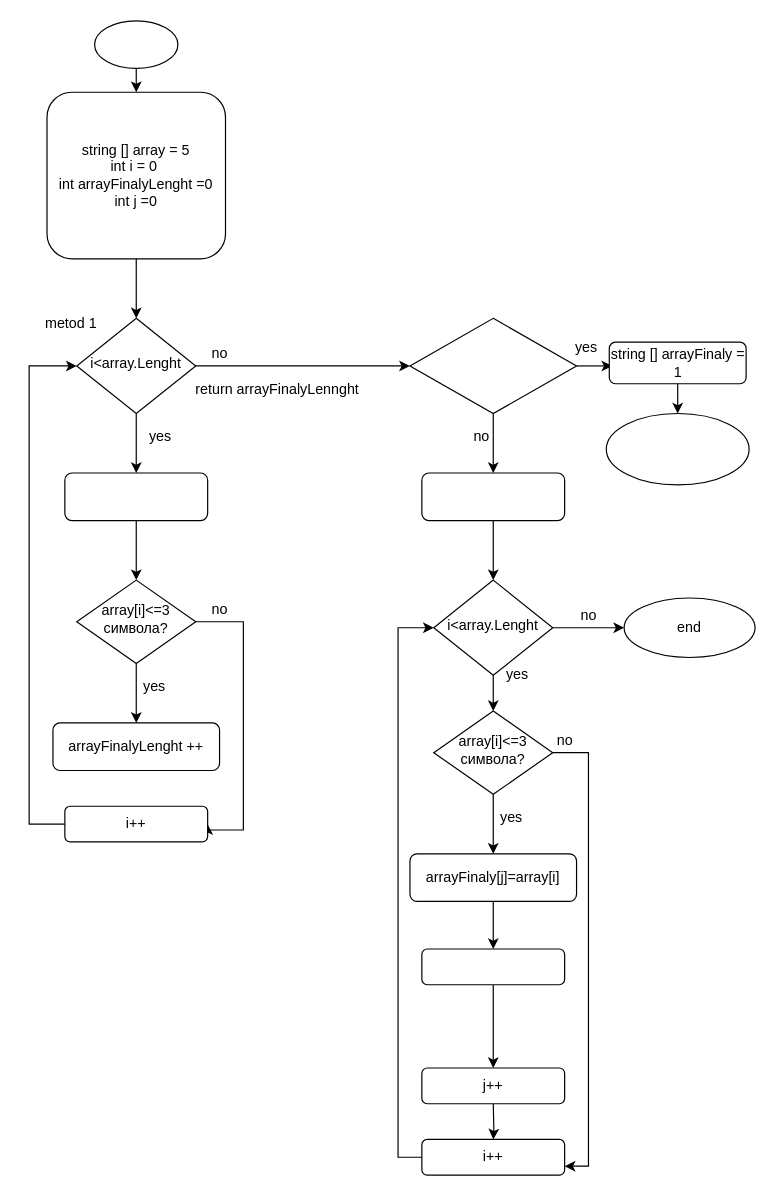
Some shapes in this 776 by 1197 pixel diagram are drawn without their labels. Here are the shapes that lost their labels. From the top down, the centre of each, then its label:
At [135,44]: "Start".
At [493,365]: "arrayFinalyLenght = 0?".
At [677,448]: "print Массив пуст".
At [136,496]: "array[i] = Введите любое значение".
At [493,496]: "string [] arrayFinaly = arrayFinalyLenght".
At [493,966]: "print arrayFinaly[j]".
